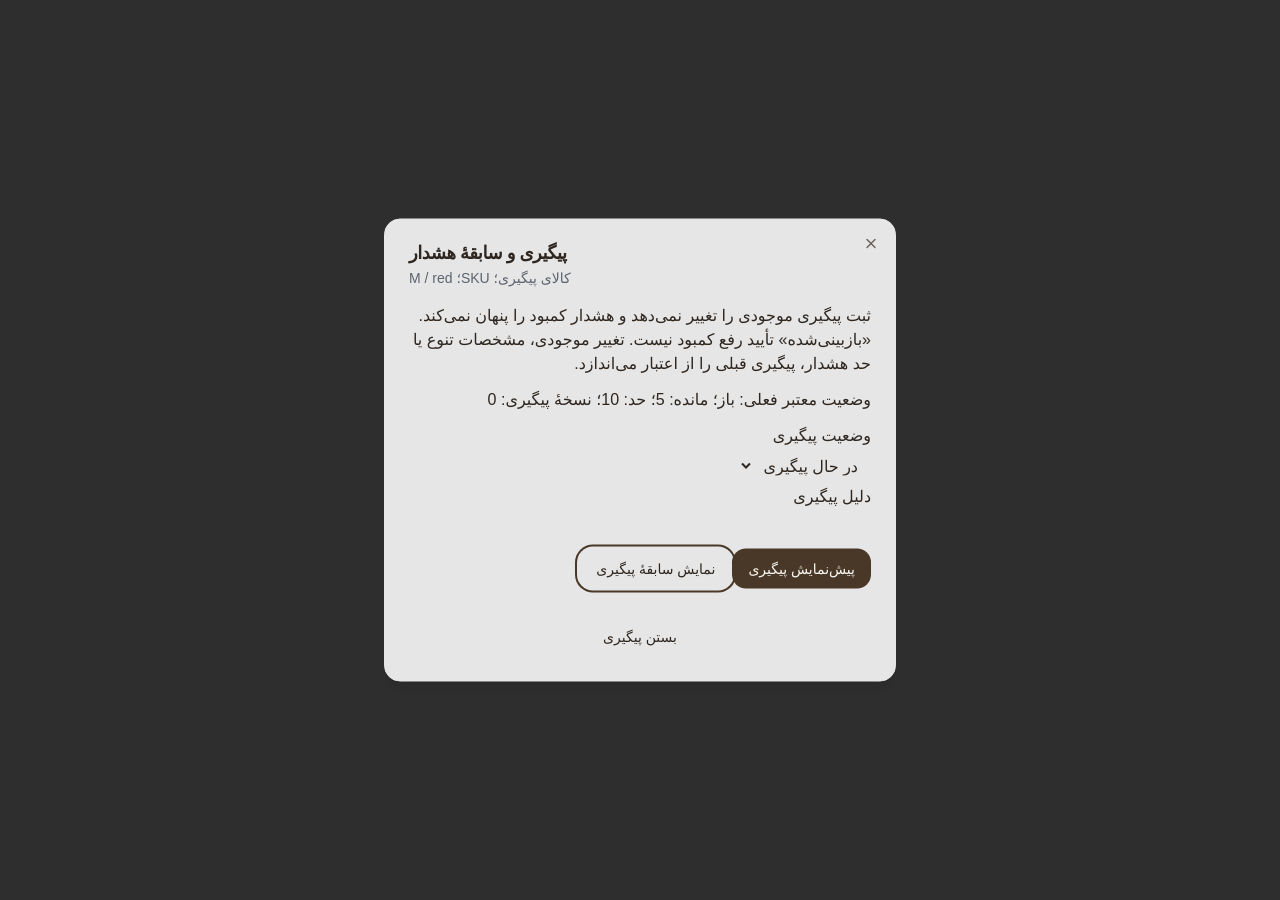
Test: does not write on read or preview and records only after explicit confirmation
Type "checked stock context" into the field labelled "دلیل پیگیری" at [640, 528], box x1=409 y1=508 x2=871 y2=548
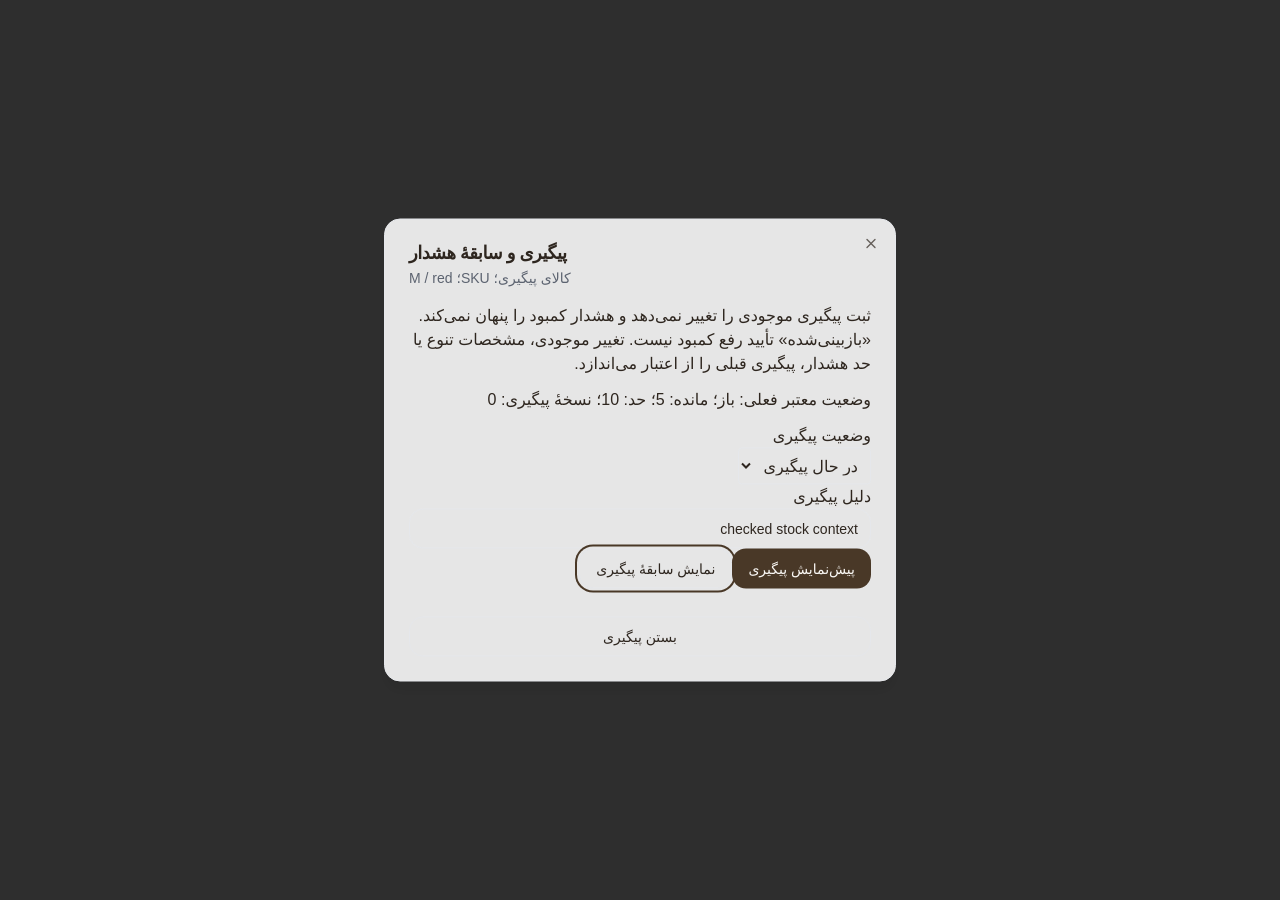
Click the button "پیش‌نمایش پیگیری" at [802, 568], box x1=732 y1=548 x2=871 y2=588
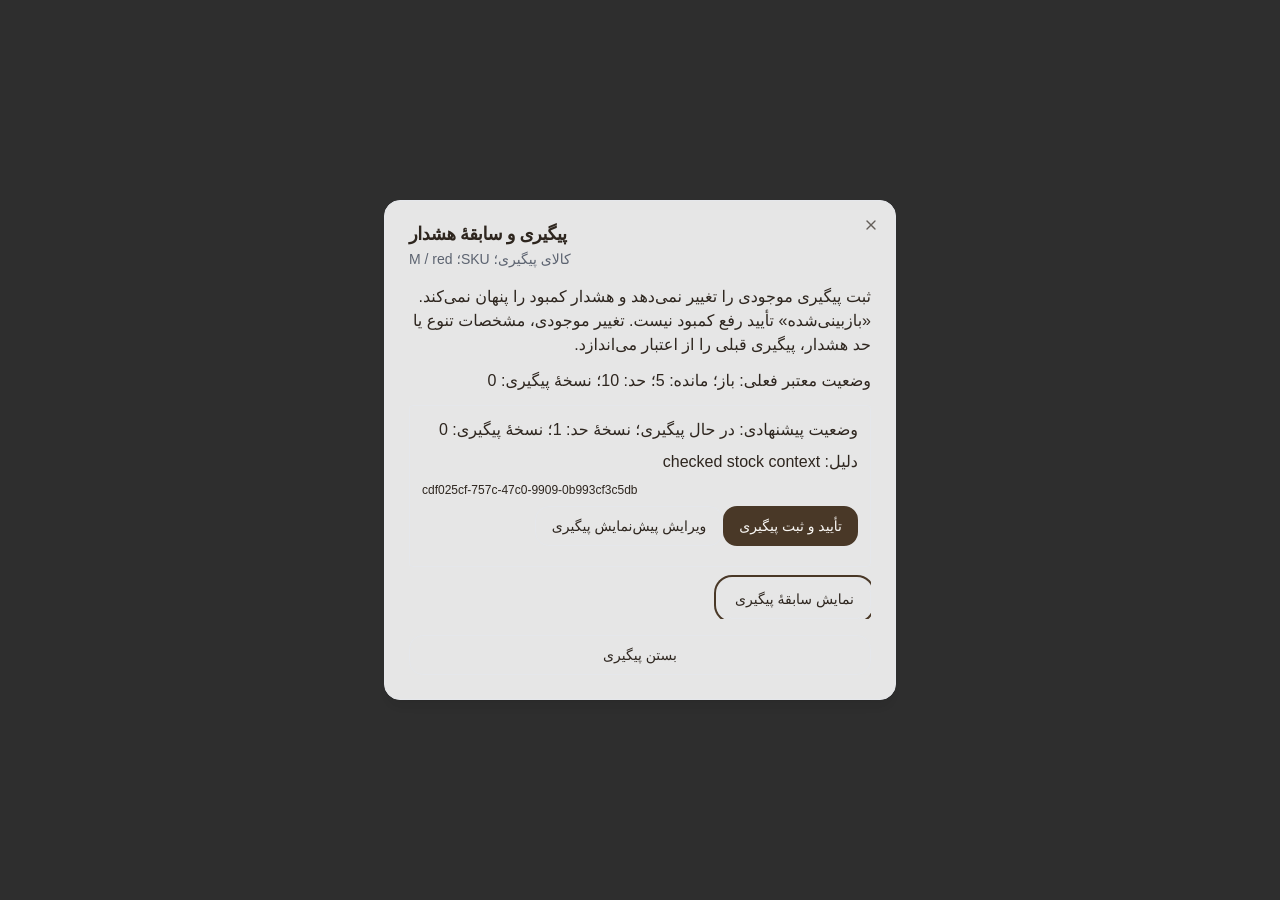
Click the button "تأیید و ثبت پیگیری" at [791, 526], box x1=723 y1=506 x2=858 y2=546
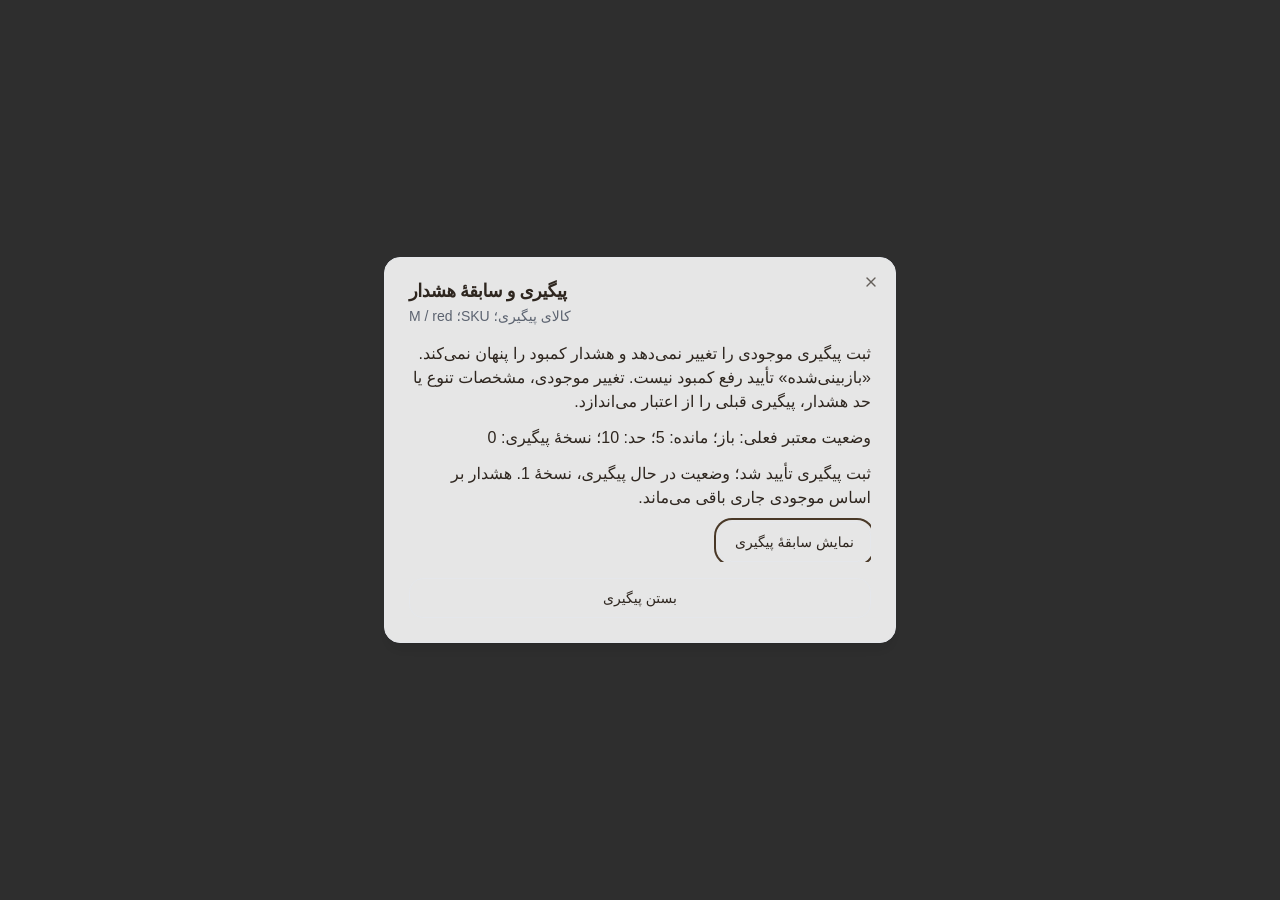
Now the text "ثبت پیگیری تأیید شد" is shown, box x1=676 y1=465 x2=871 y2=482
Now the text "هشدار بر اساس موجودی جاری باقی می‌ماند" is shown, box x1=451 y1=465 x2=871 y2=506
